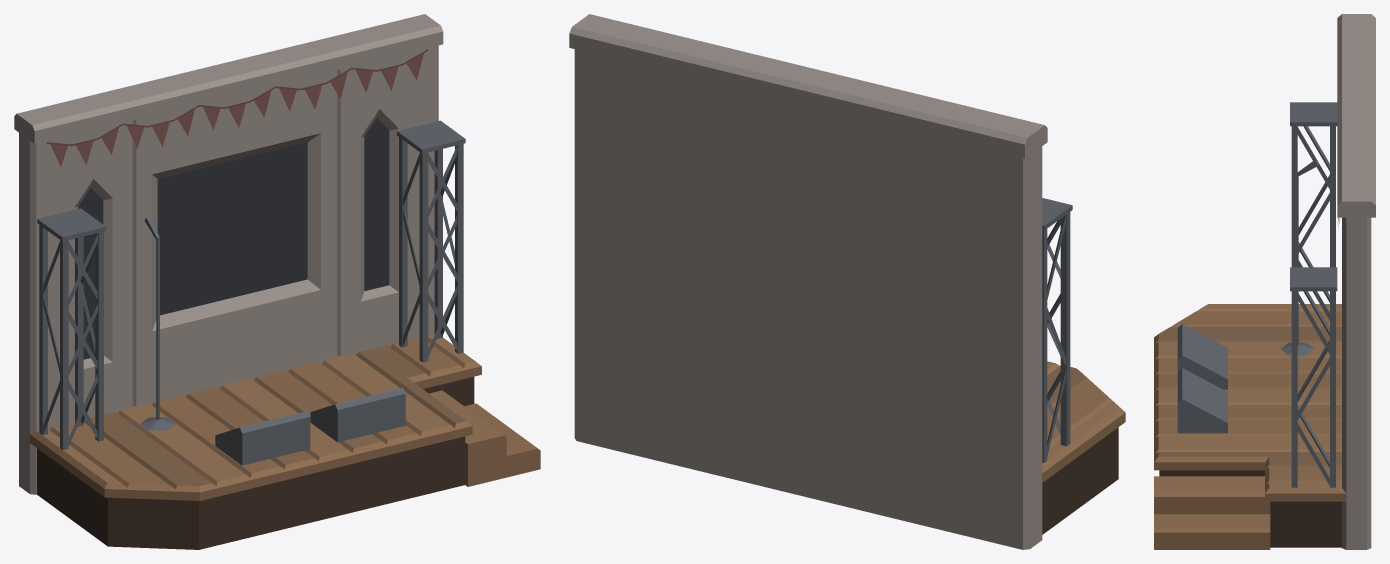
Rendered from union-stage-with-backdrop-75320b.glb.
3 renders of one model, left to right at view 1: azimuth 30°, elevation 25°; view 2: azimuth 150°, elevation 25°; view 3: azimuth 270°, elevation 25°, orthographic. The views are drawn at different scales.
Visible parts, largest first — view 1: stage, gear-mesh; view 2: stage; view 3: stage, gear-mesh.
Part boxes in pixels (x1,y1,x2,y2): stage: [14, 14, 540, 549]; gear-mesh: [138, 216, 405, 465]; stage: [569, 14, 1125, 549]; stage: [1154, 14, 1375, 549]; gear-mesh: [1177, 160, 1318, 433].
Size of the model in its own units: 3 by 2.6 by 1.5.
